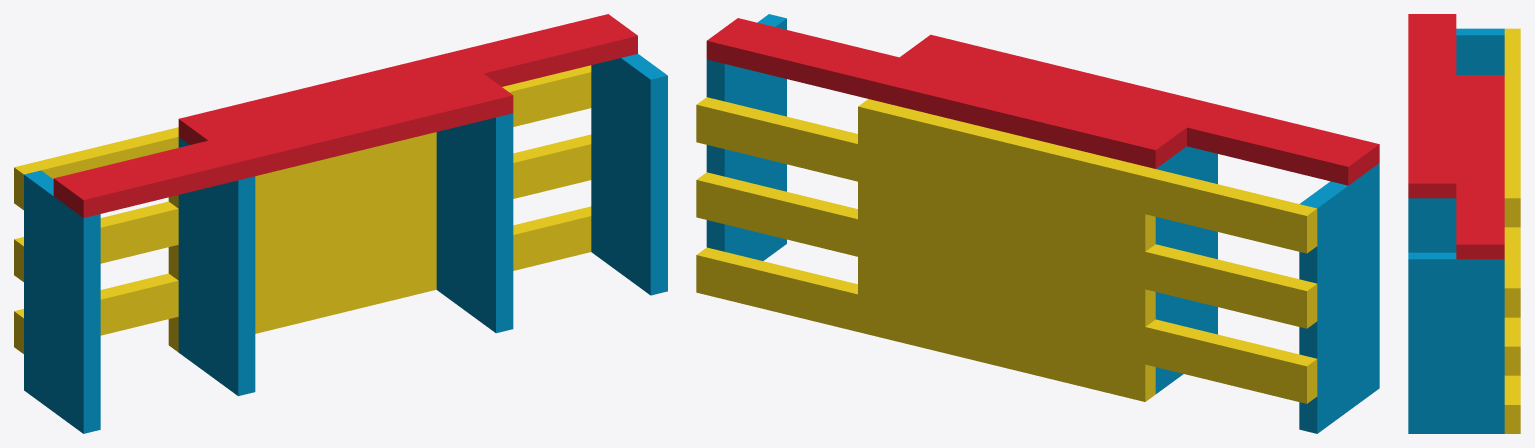
The model's file is tinker.obj.
3 renders of one model, left to right at view 1: azimuth 30°, elevation 25°; view 2: azimuth 150°, elevation 25°; view 3: azimuth 270°, elevation 25°, orthographic. The views are drawn at different scales.
Parts seen in each view (by area): view 1: obj_2, obj_6, obj_11, obj_7, obj_1, obj_0, obj_4, obj_5, obj_9, obj_8, obj_10, obj_3; view 2: obj_7, obj_3, obj_5, obj_4, obj_10, obj_8, obj_9, obj_2, obj_6, obj_11, obj_1; view 3: obj_11, obj_7, obj_2, obj_3, obj_0, obj_6, obj_10, obj_8, obj_9.
Boxes of the visible parts, left/top/right/bottom form: obj_2: left=53, top=73, right=513, bottom=217; obj_6: left=24, top=170, right=100, bottom=433; obj_11: left=591, top=54, right=667, bottom=295; obj_7: left=178, top=14, right=637, bottom=144; obj_1: left=178, top=137, right=255, bottom=396; obj_0: left=436, top=113, right=513, bottom=333; obj_4: left=14, top=146, right=436, bottom=281; obj_5: left=14, top=218, right=436, bottom=353; obj_9: left=168, top=134, right=591, bottom=280; obj_8: left=168, top=206, right=591, bottom=352; obj_10: left=168, top=65, right=591, bottom=208; obj_3: left=14, top=127, right=178, bottom=210; obj_7: left=706, top=18, right=1186, bottom=168; obj_3: left=858, top=99, right=1317, bottom=253; obj_5: left=858, top=257, right=1317, bottom=403; obj_4: left=858, top=181, right=1317, bottom=328; obj_10: left=696, top=97, right=1155, bottom=251; obj_8: left=696, top=247, right=1155, bottom=401; obj_9: left=696, top=172, right=1155, bottom=326; obj_2: left=900, top=34, right=1379, bottom=185; obj_6: left=1299, top=163, right=1379, bottom=433; obj_11: left=706, top=14, right=786, bottom=260; obj_1: left=1155, top=146, right=1217, bottom=393; obj_11: left=1408, top=252, right=1504, bottom=433; obj_7: left=1456, top=75, right=1504, bottom=259; obj_2: left=1408, top=14, right=1456, bottom=198; obj_3: left=1504, top=28, right=1520, bottom=227; obj_0: left=1408, top=198, right=1456, bottom=252; obj_6: left=1456, top=28, right=1504, bottom=74; obj_10: left=1504, top=227, right=1520, bottom=317; obj_8: left=1504, top=375, right=1520, bottom=433; obj_9: left=1504, top=317, right=1520, bottom=375.
Bounding box in the file's own units: 408 × 156 × 84.
